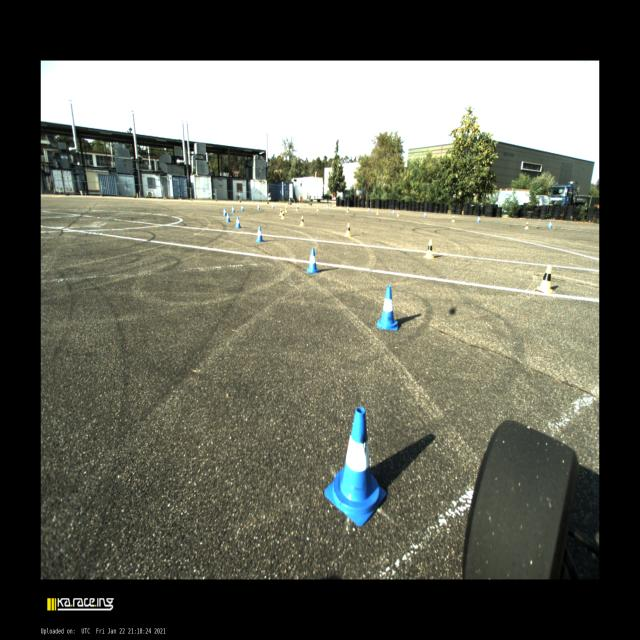blue_cone: (324, 408, 386, 526), (377, 286, 398, 330), (306, 248, 319, 273), (256, 226, 264, 242), (235, 217, 241, 228), (226, 212, 230, 222), (222, 208, 226, 216), (548, 222, 552, 228), (232, 206, 235, 213), (241, 205, 244, 211), (477, 216, 480, 222), (257, 204, 260, 209), (272, 204, 274, 209), (326, 205, 328, 210), (424, 212, 426, 217), (368, 208, 370, 212), (392, 210, 394, 214)
yellow_cone: (536, 266, 554, 293), (423, 240, 434, 259), (344, 223, 351, 237), (300, 216, 304, 226), (281, 212, 285, 220), (524, 222, 528, 229), (279, 208, 282, 216), (316, 206, 319, 211), (346, 207, 349, 212), (296, 206, 299, 211), (285, 206, 287, 212), (452, 216, 454, 222), (397, 211, 399, 217), (376, 210, 379, 214)
